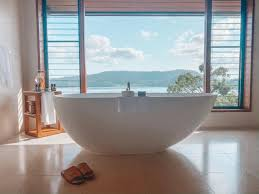bathub: (53, 89, 223, 158)
